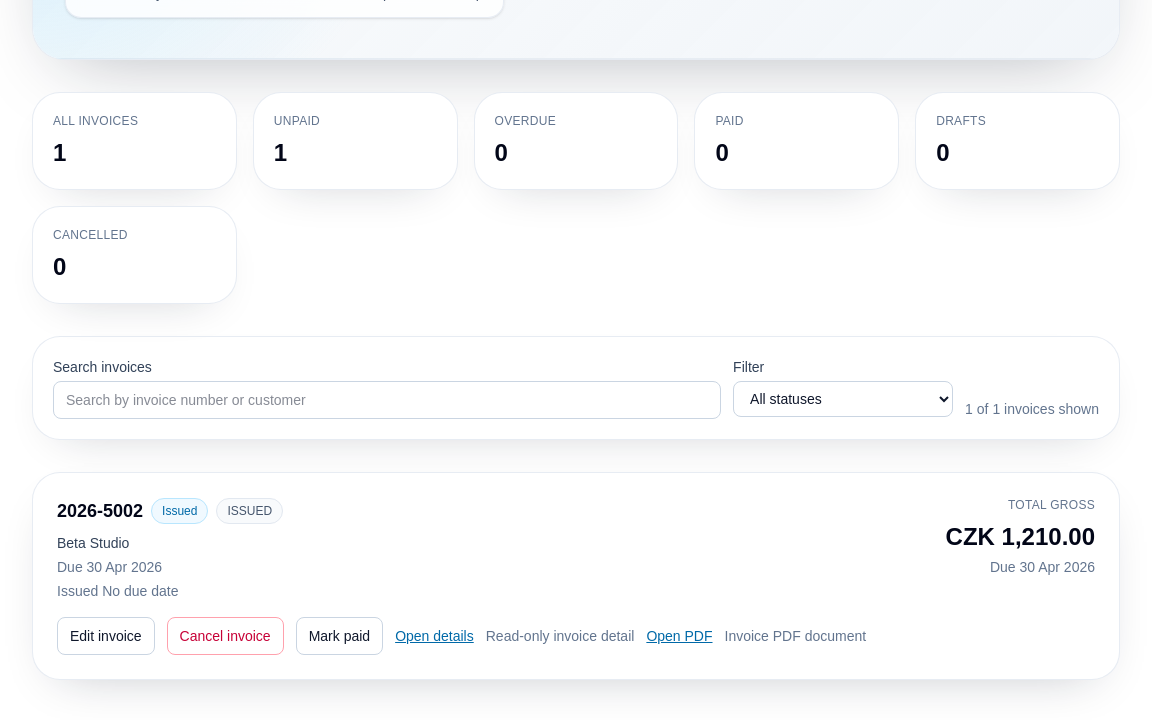
Test: invoices workspace v1 › shows a local error when mark paid fails
The width and height of the screenshot is (1152, 720).
(page scrolled)
Click the button "Mark paid" at (339, 636), box [296,617,383,655]
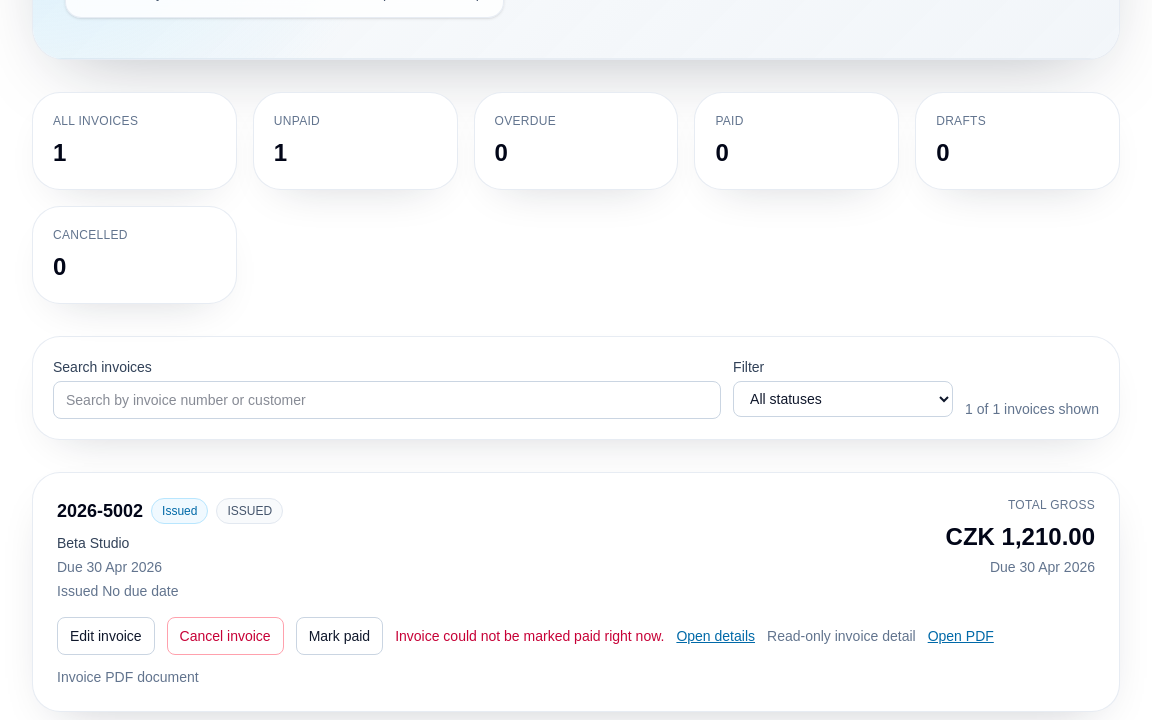
expect the text "Invoice could not be marked paid right now." is shown: met, box [395,626,664,646]
